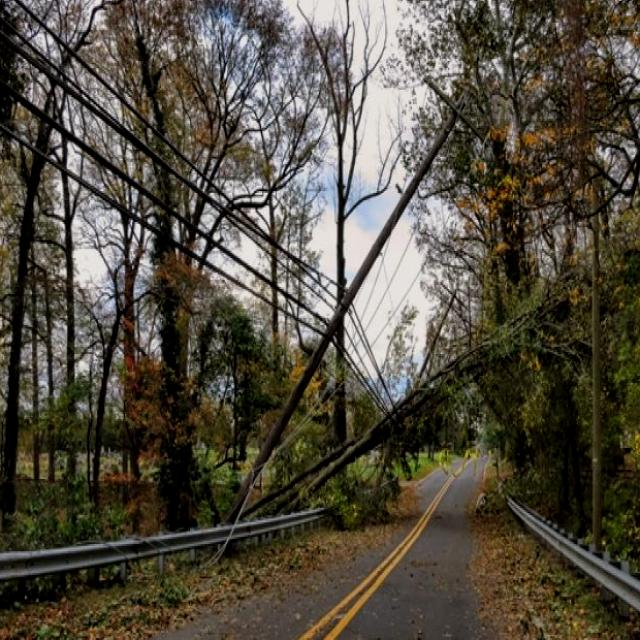fallen_object: (248, 312, 533, 545)
